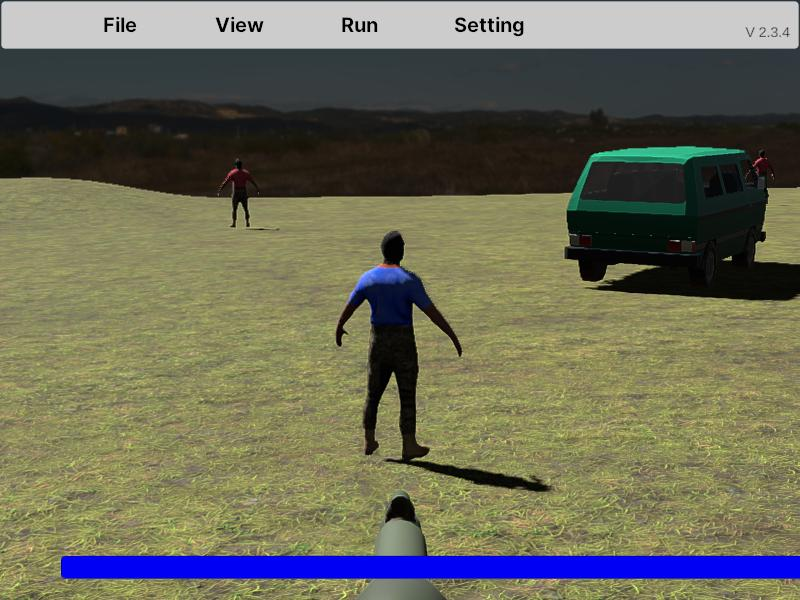Human: (335, 228, 462, 462), (218, 158, 260, 228)
car: (565, 145, 768, 290), (564, 146, 769, 288)
